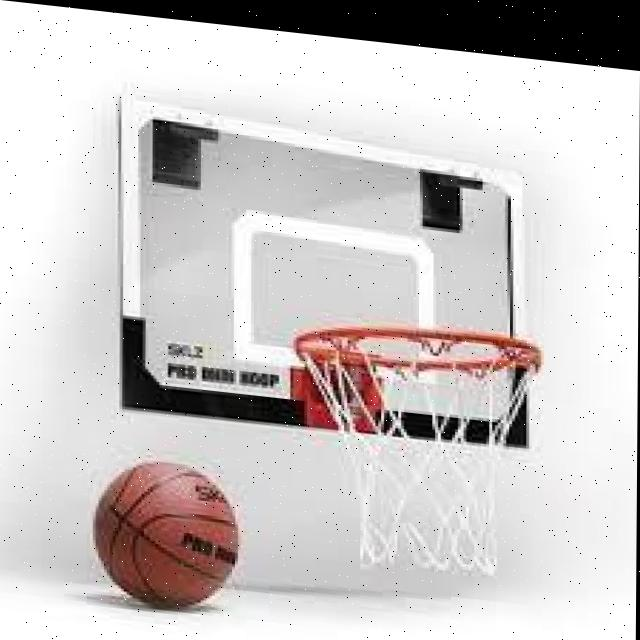basketball: (92, 454, 241, 610)
hoop: (292, 311, 541, 581)
